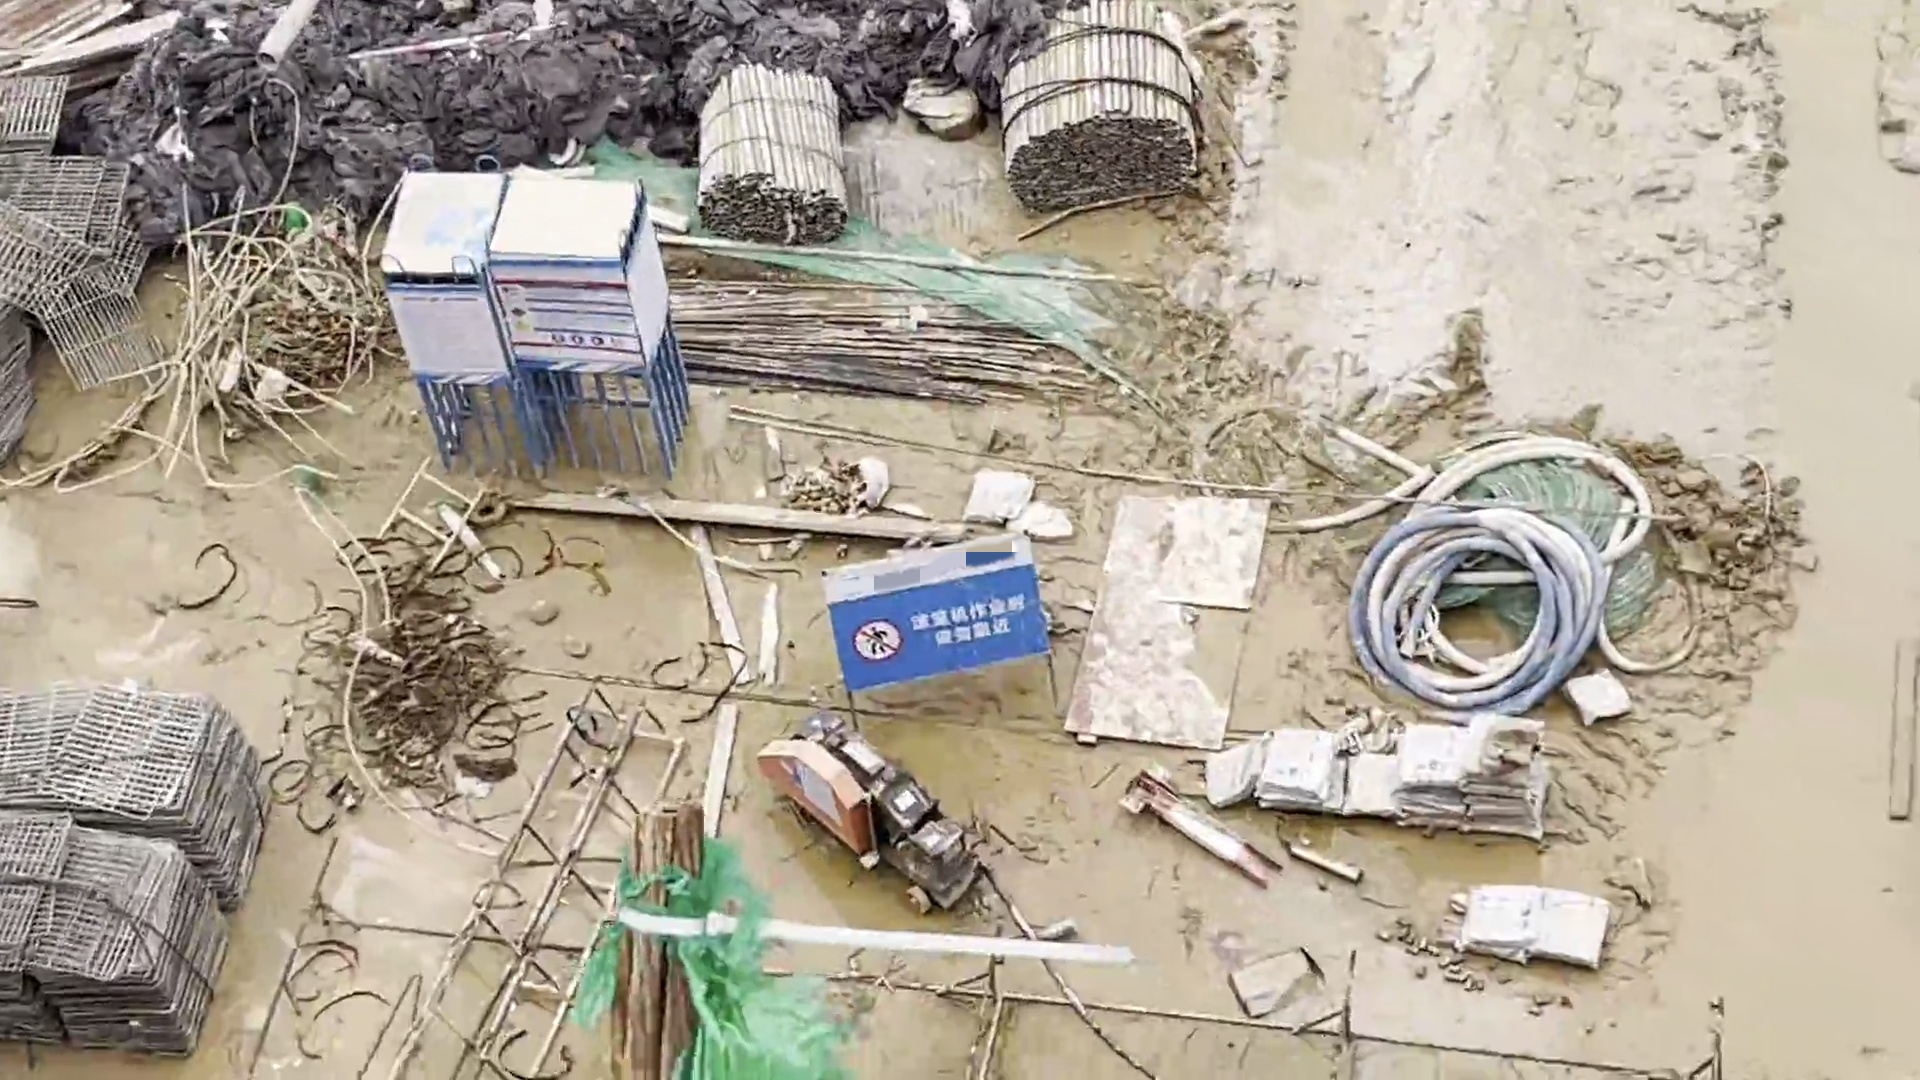scaffold: (992, 12, 1212, 208), (709, 69, 853, 239)
